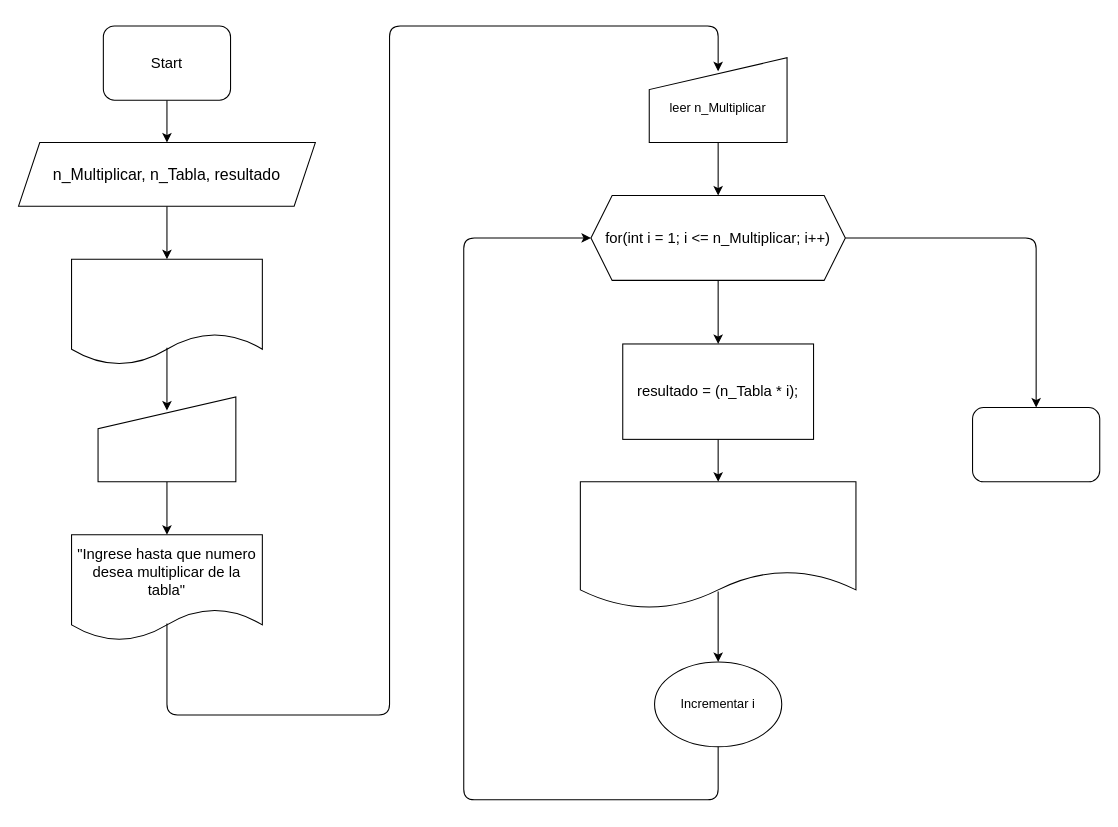
Image size: 1118x827. Some labels were removed from this diagram. The centre of each missing label's shape, as x and y in pixels:
"Ingrese el numero de la tabla de multiplicar": (166,311)
End: (1035,444)
leer n_Tabla: (166,439)
n_Tabla + " x " + i + " = " + resultado: (717,545)
